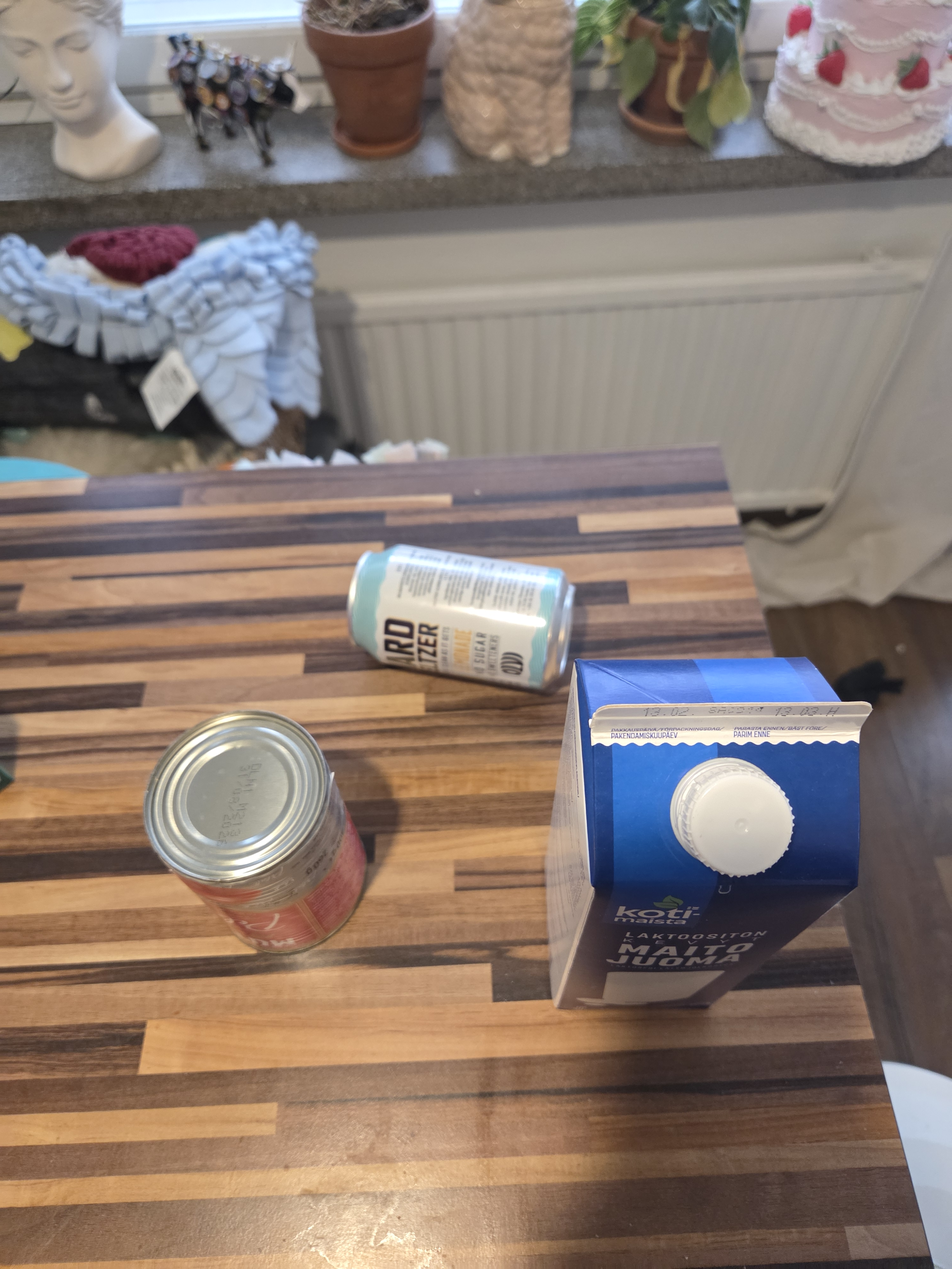Dryckeskartong: (544, 655, 873, 1012)
Konservburk: (140, 710, 369, 954)
Pantburk: (347, 544, 578, 691)
